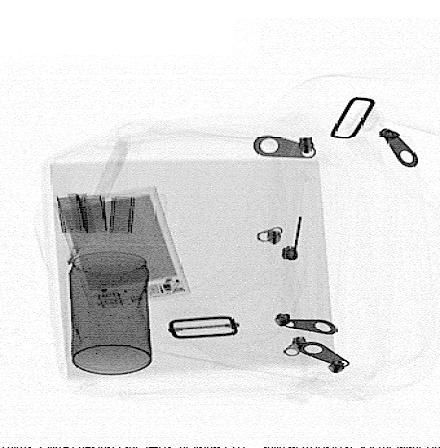Powerbank: (52, 186, 192, 308)
